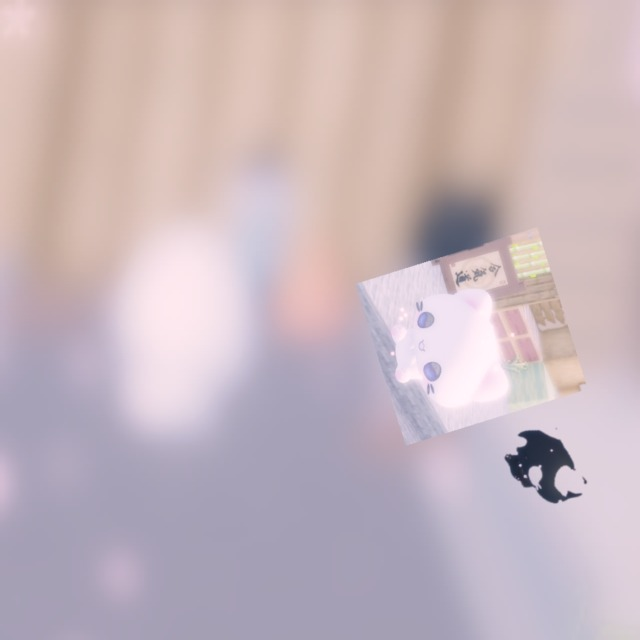urso_branco: (355, 227, 588, 446)
urso_preto: (480, 399, 611, 535)
